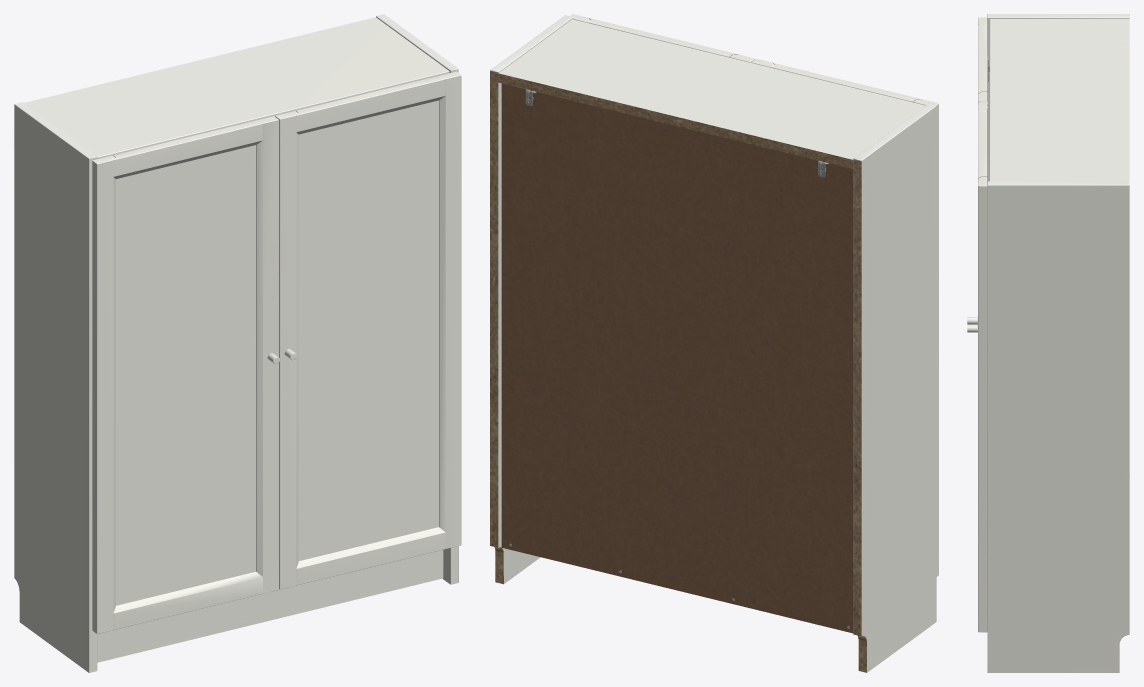
The model's file is 09 - BILLY OXBERG Bookcase with doors - white 80x30x106 cm.glb.
The picture shows the model from 3 angles, left to right: view 1: azimuth 30°, elevation 25°; view 2: azimuth 150°, elevation 25°; view 3: azimuth 270°, elevation 25°; orthographic projection. The views are drawn at different scales.
Parts seen in each view (by area): view 1: Mesh_0; view 2: Mesh_0; view 3: Mesh_0.
Part boxes in pixels (box(x1,y1,x2,y2)): Mesh_0: box(14, 14, 461, 672); Mesh_0: box(490, 14, 938, 672); Mesh_0: box(967, 14, 1129, 672).
Size of the model in its own units: 0.7981 by 1.06 by 0.3201.
Materials: 1 (1 with a texture image).
